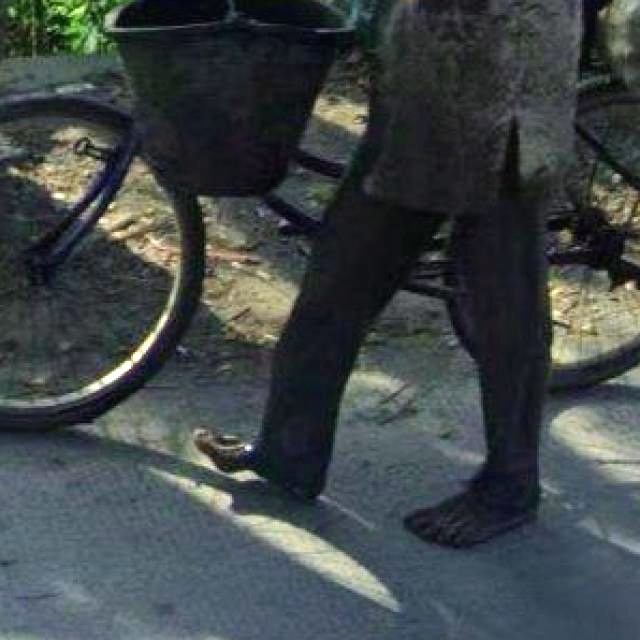bicycle: (7, 14, 629, 458)
